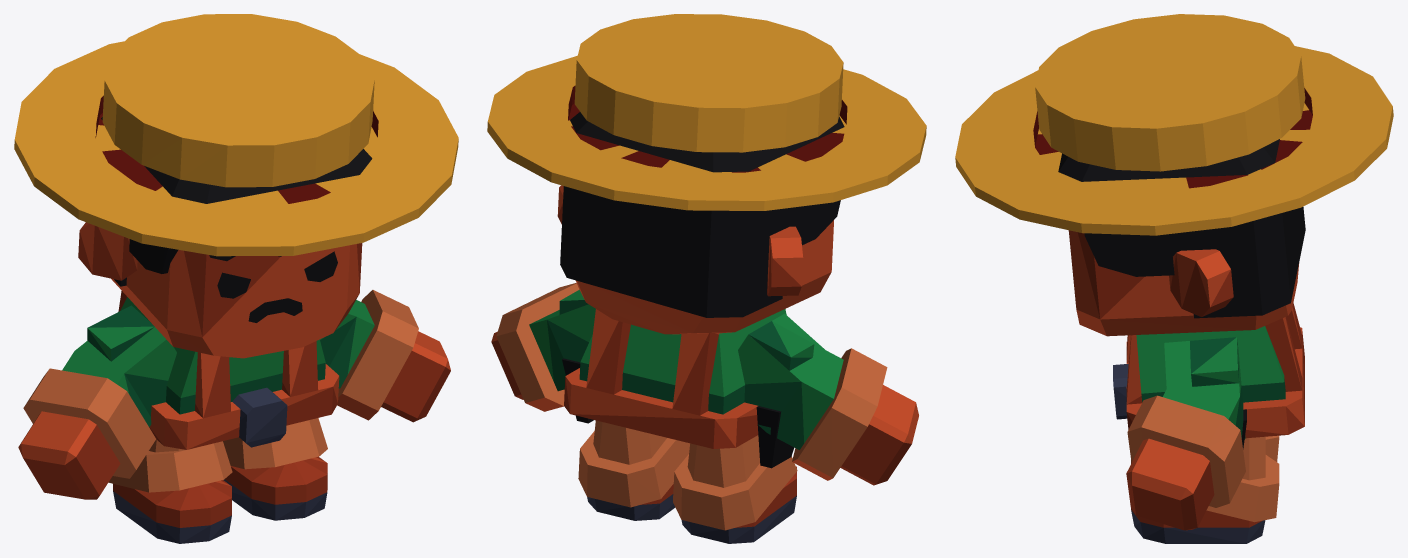
Rendered from Boy_idle_3.obj.
3 renders of one model, left to right at view 1: azimuth 30°, elevation 25°; view 2: azimuth 150°, elevation 25°; view 3: azimuth 270°, elevation 25°, orthographic.
Parts seen in each view (by area): view 1: Boy; view 2: Boy; view 3: Boy.
Part boxes in pixels (x1=…): Boy: x1=14, y1=14, x2=458, y2=543; Boy: x1=487, y1=14, x2=926, y2=543; Boy: x1=955, y1=14, x2=1393, y2=543.
Bounding box in the file's own units: 0.7312 × 0.7437 × 0.6675.
